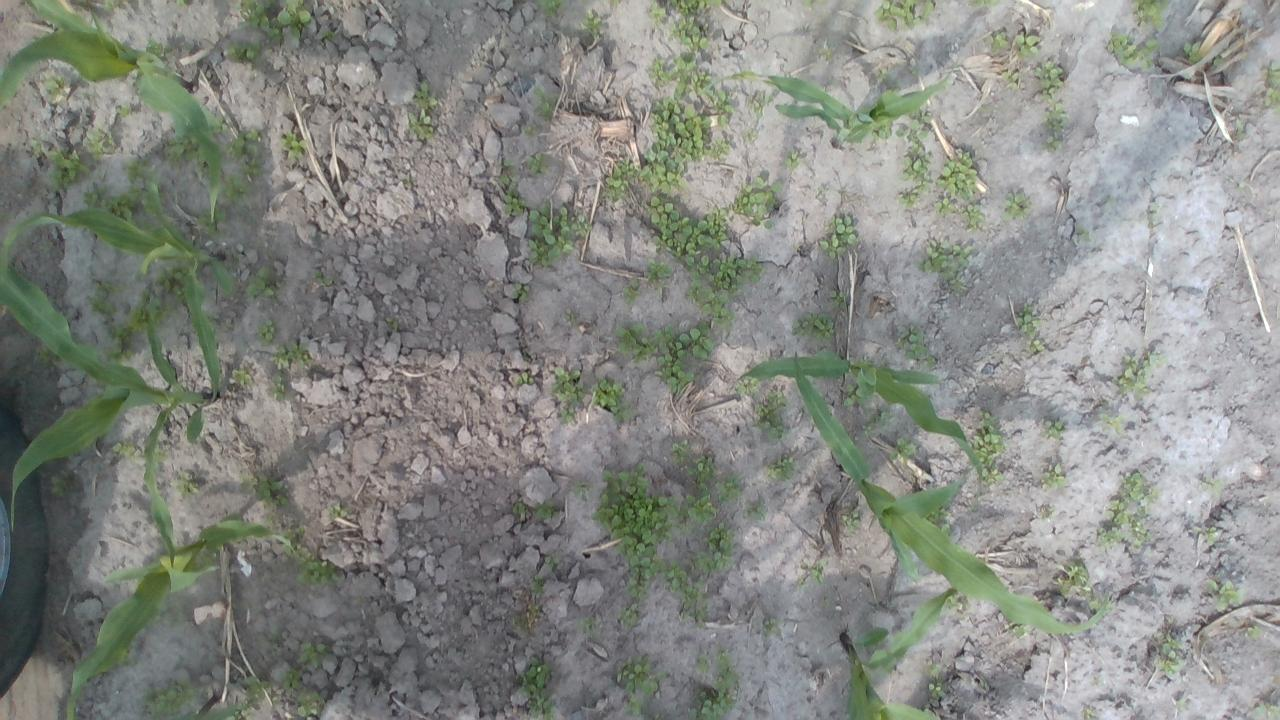Maize: (791, 351, 1113, 636), (0, 264, 219, 580), (0, 180, 234, 444), (0, 0, 228, 223), (67, 518, 299, 720), (736, 350, 984, 492), (700, 69, 954, 148), (838, 588, 956, 720), (178, 694, 240, 720)
Weeds: (588, 464, 680, 561), (612, 320, 714, 395), (640, 192, 729, 274), (640, 96, 712, 195), (648, 52, 736, 128), (523, 199, 594, 267), (686, 648, 740, 720), (230, 0, 312, 45), (82, 183, 163, 228), (892, 112, 932, 194), (660, 560, 710, 622), (968, 410, 1008, 487), (916, 239, 973, 291), (686, 271, 736, 330), (730, 175, 781, 230), (1113, 349, 1164, 400), (516, 655, 556, 720), (682, 454, 718, 526), (125, 287, 175, 337), (142, 677, 200, 720), (165, 119, 208, 177), (689, 522, 736, 575), (705, 253, 763, 295), (614, 654, 668, 696), (936, 150, 978, 202), (1104, 29, 1160, 68), (874, 0, 938, 33), (46, 147, 90, 192), (894, 324, 937, 370), (816, 214, 858, 260), (590, 376, 632, 422), (224, 128, 263, 177), (550, 367, 584, 422), (624, 556, 666, 600), (100, 322, 142, 366), (751, 390, 787, 441), (497, 157, 528, 216), (600, 158, 640, 200), (150, 262, 188, 304), (670, 16, 710, 55), (1118, 468, 1160, 505), (85, 278, 122, 319), (1154, 632, 1186, 677), (1204, 577, 1245, 612), (1054, 561, 1091, 597), (790, 312, 834, 342), (1130, 0, 1172, 31), (254, 474, 289, 511), (84, 123, 118, 161), (1033, 62, 1065, 102), (294, 558, 338, 587), (1259, 60, 1280, 115), (276, 526, 308, 561), (296, 638, 333, 668), (272, 344, 313, 371), (244, 266, 278, 298), (713, 473, 746, 504), (999, 192, 1034, 221), (224, 38, 264, 62), (922, 507, 952, 538), (279, 130, 308, 162), (1012, 302, 1040, 335), (671, 0, 728, 16), (1102, 498, 1132, 528), (276, 666, 306, 696), (220, 173, 250, 203), (198, 204, 226, 236), (142, 34, 174, 62), (110, 439, 145, 464), (294, 689, 324, 718), (1040, 100, 1068, 131), (406, 109, 434, 140), (244, 674, 272, 704), (40, 68, 67, 98), (409, 81, 439, 108), (860, 411, 891, 437), (642, 260, 674, 285), (1038, 461, 1066, 489), (30, 344, 61, 369), (1125, 520, 1152, 548), (1014, 30, 1042, 57), (888, 436, 918, 461), (766, 454, 796, 479), (172, 472, 199, 499), (1095, 524, 1123, 550), (960, 203, 986, 231), (125, 158, 155, 182), (532, 86, 556, 116), (747, 94, 774, 120), (841, 382, 867, 408), (734, 376, 761, 400), (646, 0, 668, 29), (270, 369, 289, 401), (533, 0, 565, 19), (155, 604, 185, 624), (707, 138, 732, 162), (894, 188, 921, 210), (523, 151, 545, 178), (254, 318, 276, 345), (1086, 594, 1114, 615), (1182, 42, 1206, 66), (622, 695, 645, 720), (1038, 419, 1064, 441), (618, 604, 640, 630), (222, 702, 252, 720), (809, 558, 828, 586), (579, 11, 602, 34), (998, 68, 1022, 90), (841, 508, 862, 532), (620, 281, 640, 305), (532, 502, 558, 520), (945, 590, 968, 610), (744, 501, 768, 520), (1102, 414, 1124, 434), (989, 30, 1009, 52), (205, 110, 225, 132), (1256, 702, 1280, 720), (933, 197, 957, 215), (869, 123, 894, 140), (232, 367, 254, 386), (115, 648, 138, 666), (511, 282, 531, 302), (48, 477, 67, 498), (829, 288, 847, 310), (925, 681, 947, 699), (782, 151, 801, 170), (670, 439, 689, 458), (528, 574, 546, 594), (1009, 622, 1030, 638), (1043, 136, 1061, 154), (1204, 526, 1220, 546), (1202, 478, 1224, 492), (514, 371, 534, 386), (29, 136, 46, 153), (574, 480, 590, 498), (968, 0, 1002, 8), (874, 66, 890, 83), (580, 618, 596, 635), (203, 308, 218, 326), (328, 504, 347, 518), (1028, 338, 1044, 354), (511, 501, 529, 515), (543, 555, 561, 568), (926, 662, 941, 677), (116, 102, 130, 118), (1246, 626, 1264, 638), (761, 619, 776, 633), (742, 129, 757, 143), (1078, 228, 1094, 241), (310, 269, 324, 283), (102, 0, 117, 13), (1211, 55, 1226, 68), (321, 28, 334, 40), (562, 312, 578, 321), (883, 86, 897, 96), (174, 0, 188, 9), (966, 504, 980, 513), (802, 0, 814, 9), (1083, 708, 1092, 718), (910, 68, 919, 78), (815, 186, 825, 194)
